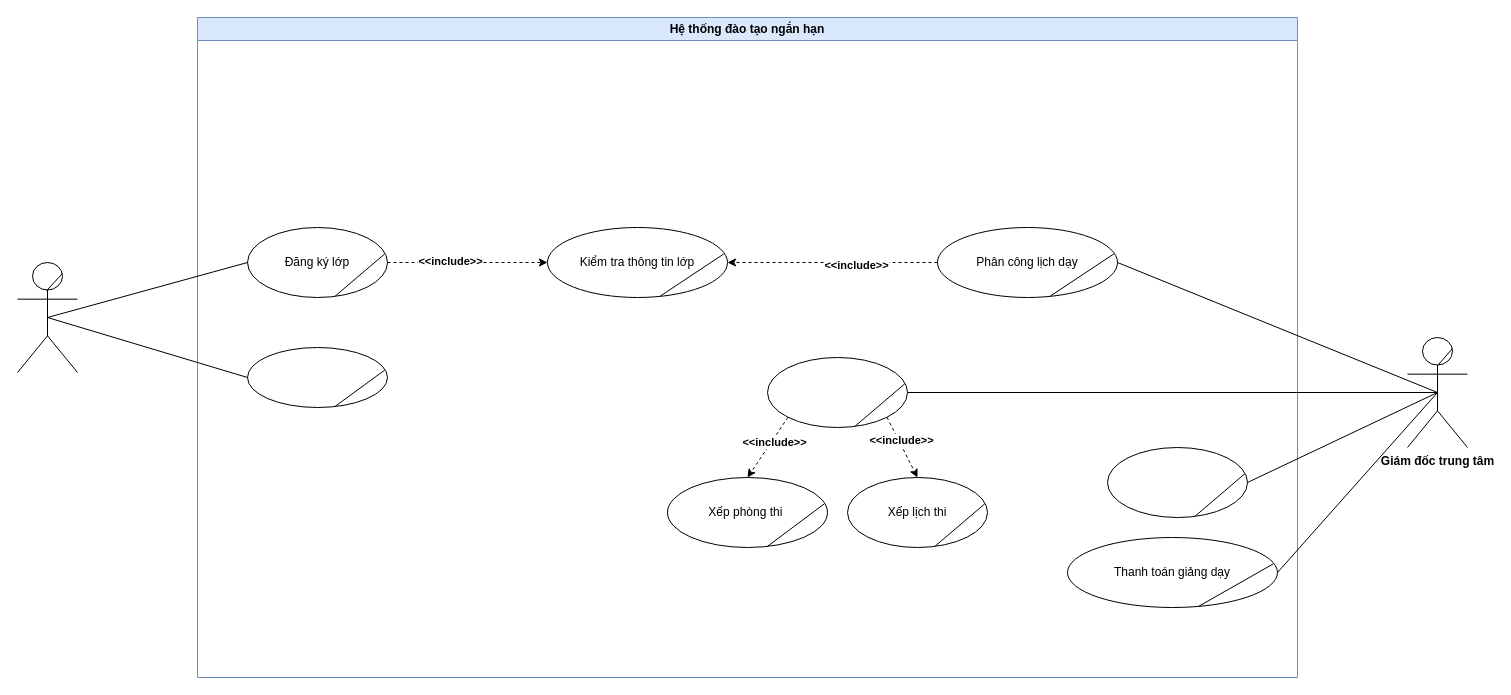
Some shapes in this 1511 by 695 pixel diagram are drawn without their labels. Here are the shapes that lost their labels. From the top down, the box of each, then its label:
(16, 262, 78, 372): Học viên
(246, 346, 388, 408): Đăng ký thi
(766, 356, 908, 428): Tổ chức thi
(1106, 446, 1248, 518): Cấp chứng chỉ
